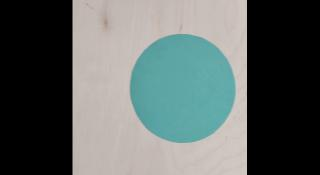Circle: (127, 30, 239, 143)
